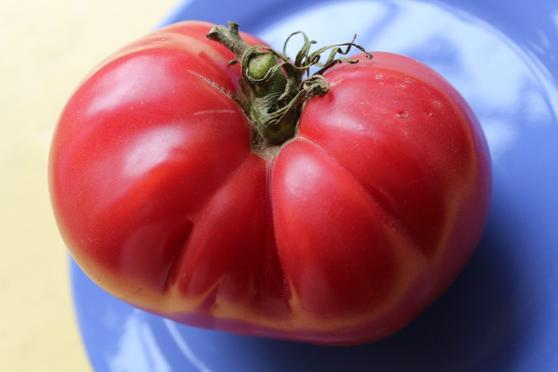tomato: (45, 18, 500, 342)
